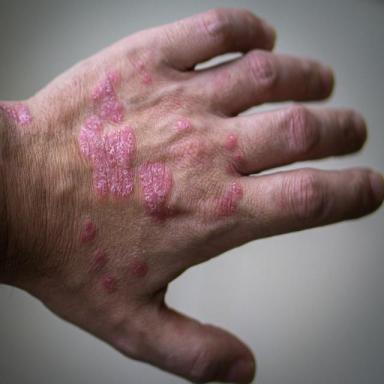Psoriasis: (78, 67, 136, 197), (138, 162, 173, 213), (219, 182, 243, 216), (0, 102, 32, 126), (80, 217, 97, 244), (128, 259, 148, 276), (102, 275, 117, 292), (174, 119, 193, 132), (225, 134, 238, 150), (95, 250, 106, 261)
